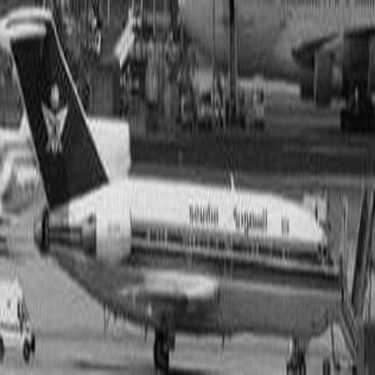airplane: (4, 1, 371, 374)
